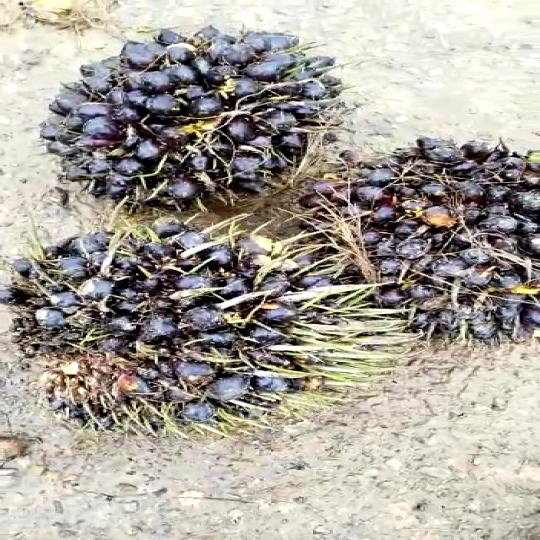mentah: (7, 213, 360, 439), (319, 123, 540, 372), (35, 21, 348, 195)
